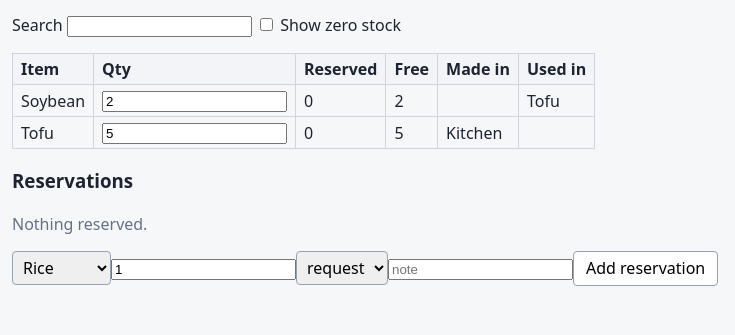
Scenario: StockTab › filters by name case-insensitively and hides zero stock until toggled
Click the checkbox labelled "Show zero stock": [266, 24] box [260,18,273,31]
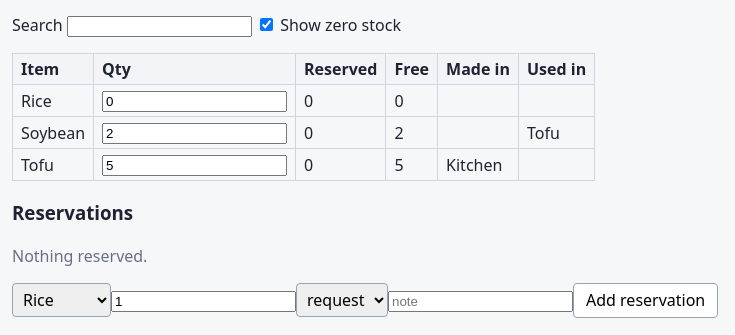
Result: the row with test id "stock-rice" is shown at [12,85,595,117]
In the search field named "Search stock": [159, 26] box [67,16,252,37], type "SOY"
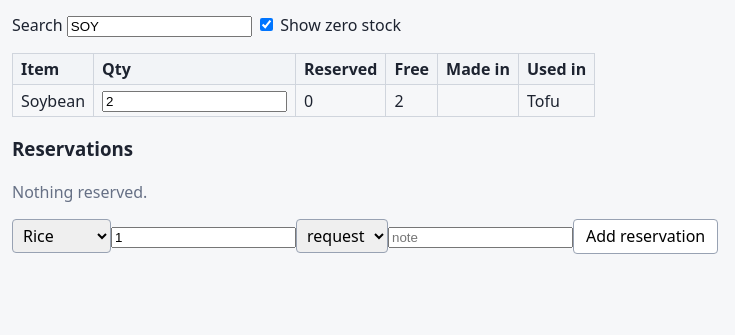
Expected: the row with test id "stock-soy" is shown, [12,85,595,117]
Result: the row with test id "stock-tofu" is gone
Result: the row with test id "stock-rice" is gone
